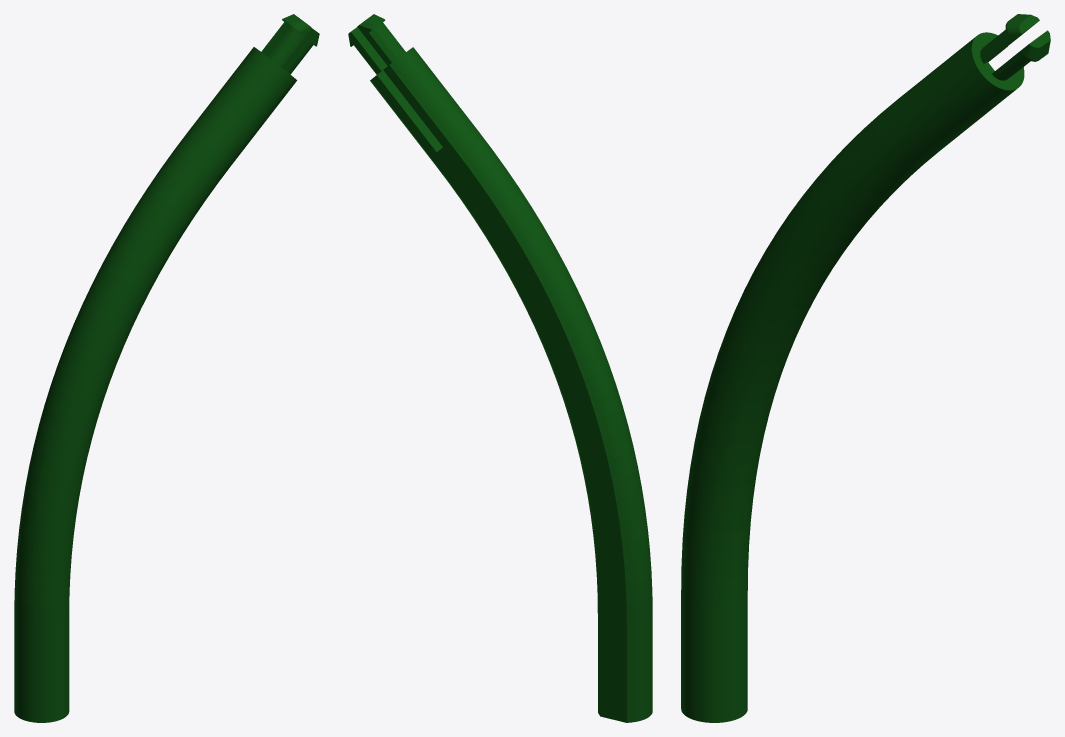
The model's file is stem_3A_45_R.glb.
3 renders of one model, left to right at view 1: azimuth 30°, elevation 25°; view 2: azimuth 150°, elevation 25°; view 3: azimuth 330°, elevation 25°, orthographic. The views are drawn at different scales.
Visible parts, largest first — view 1: stem_3A_45_R; view 2: stem_3A_45_R; view 3: stem_3A_45_R.
Part boxes in pixels (x1,y1,x2,y2): stem_3A_45_R: [14, 14, 319, 722]; stem_3A_45_R: [348, 14, 652, 722]; stem_3A_45_R: [681, 14, 1050, 722].
Size of the model in its own units: 0.0448 by 0.0912 by 0.00666.
